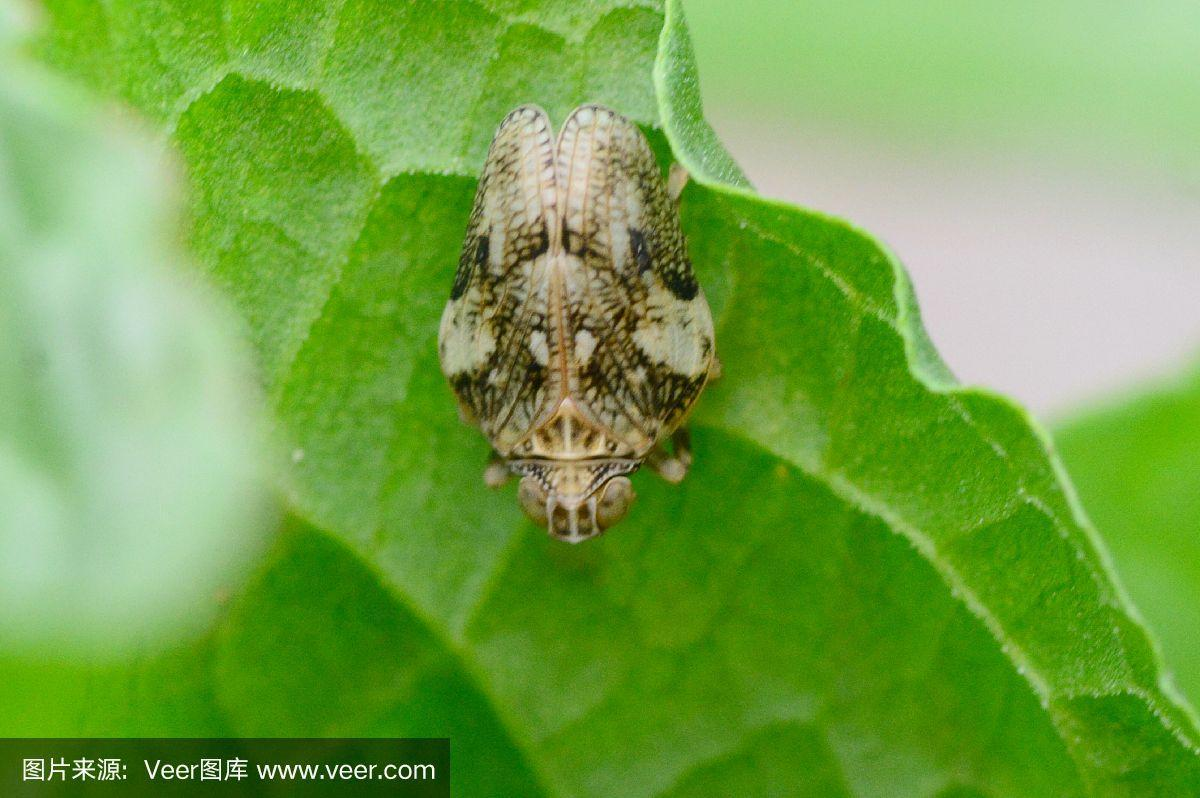Delphacidae: (435, 102, 721, 545)
